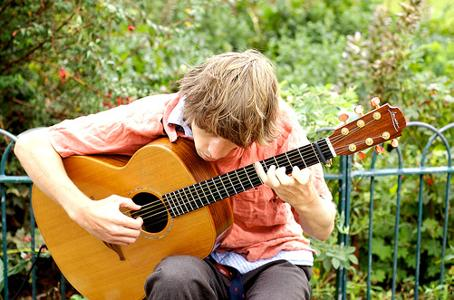person: (14, 50, 337, 299)
